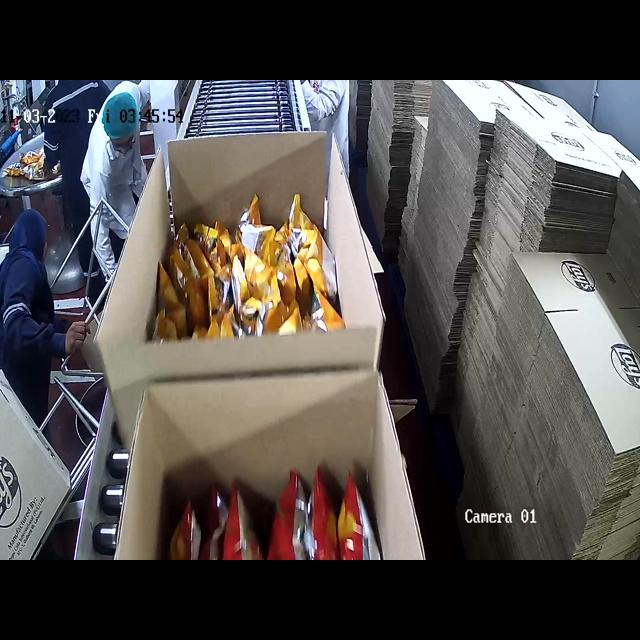cheese: (163, 210, 348, 351)
masala: (162, 490, 375, 560)
